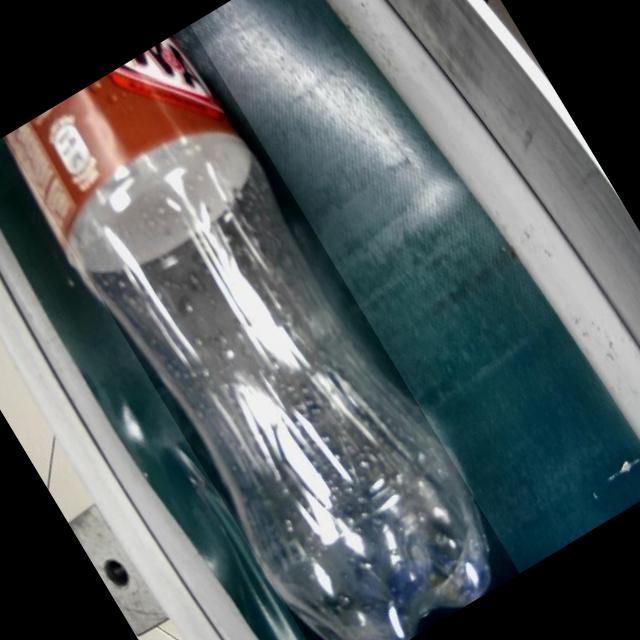BotolPlastik: (0, 22, 523, 640)
